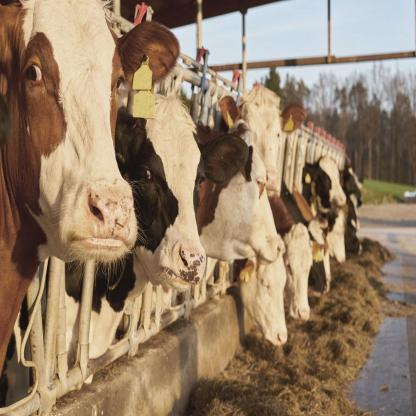cow: (0, 0, 179, 392), (128, 96, 204, 287), (200, 134, 282, 264), (222, 94, 306, 187), (237, 254, 287, 346), (284, 223, 312, 319), (303, 155, 346, 206)
